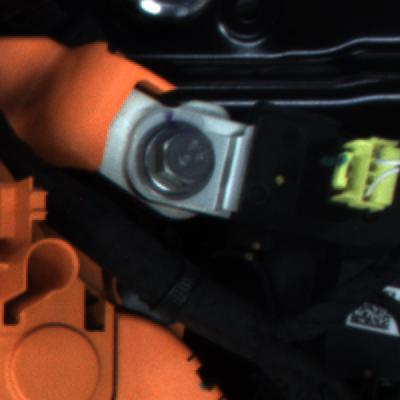nut_b: (137, 116, 226, 203)
